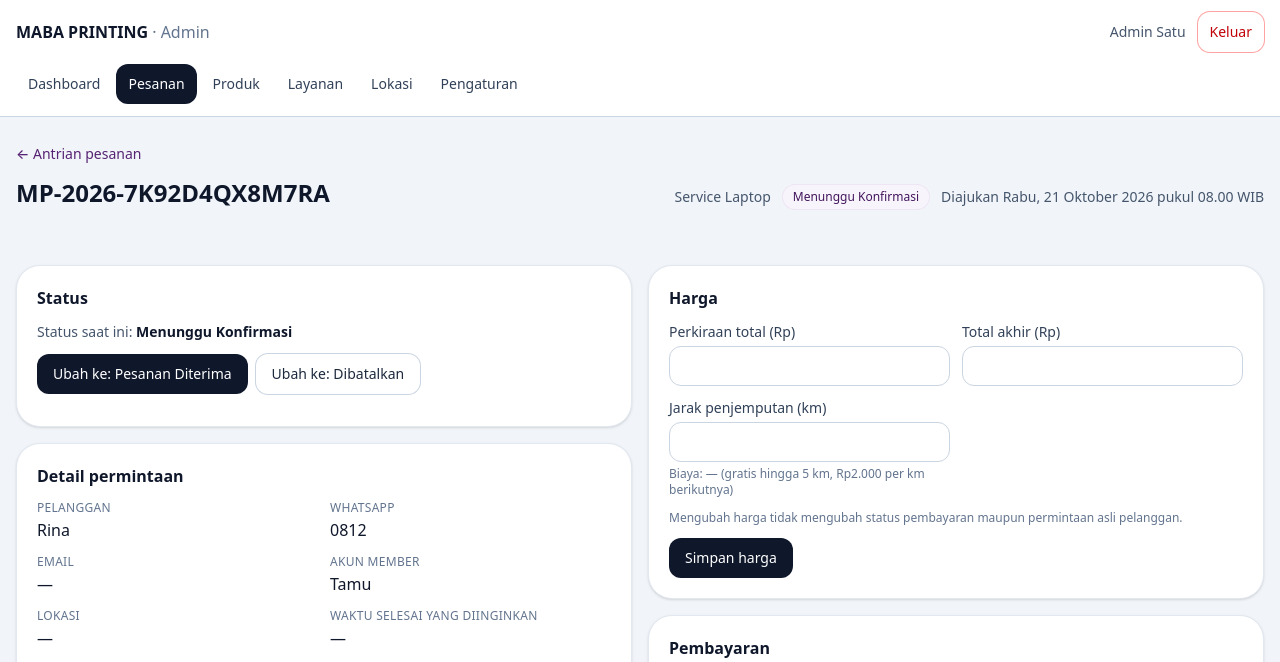
Admin order detail › rejects malformed prices in the browser
This screenshot has width=1280, height=662.
Type "75.000" into the field labelled "Total akhir (Rp)" at (1102, 366), box [962,346,1243,386]
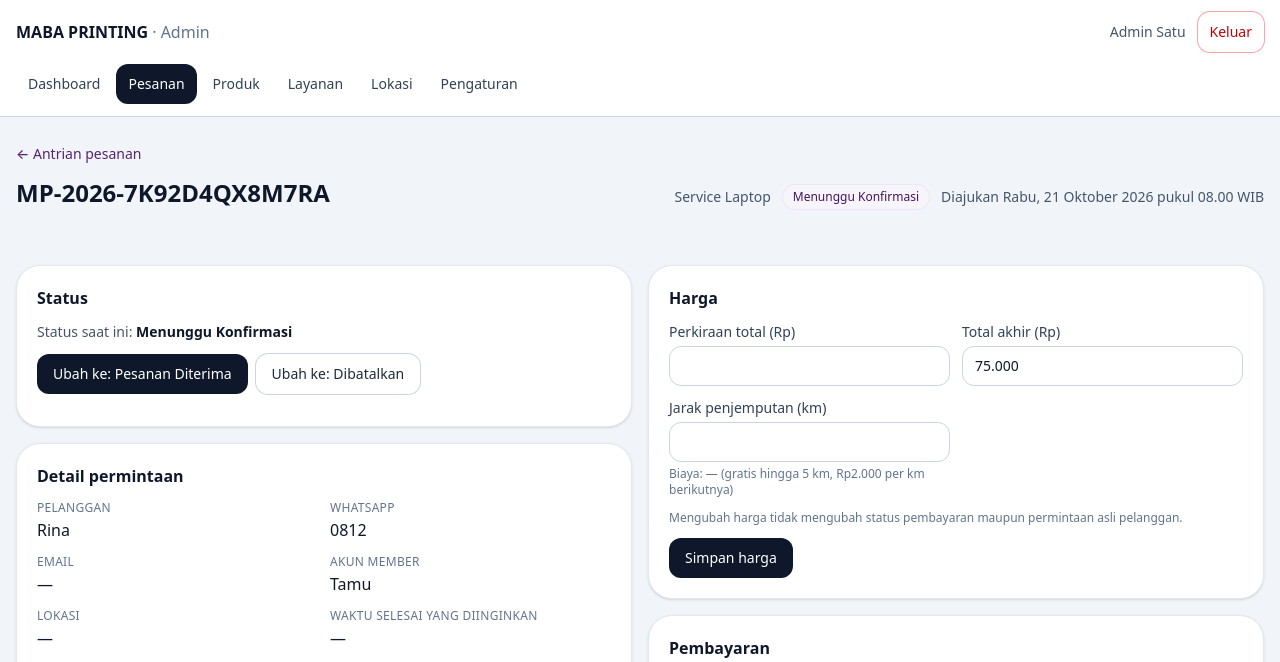
Click the button "Simpan harga" at (731, 558), box [669,538,793,578]
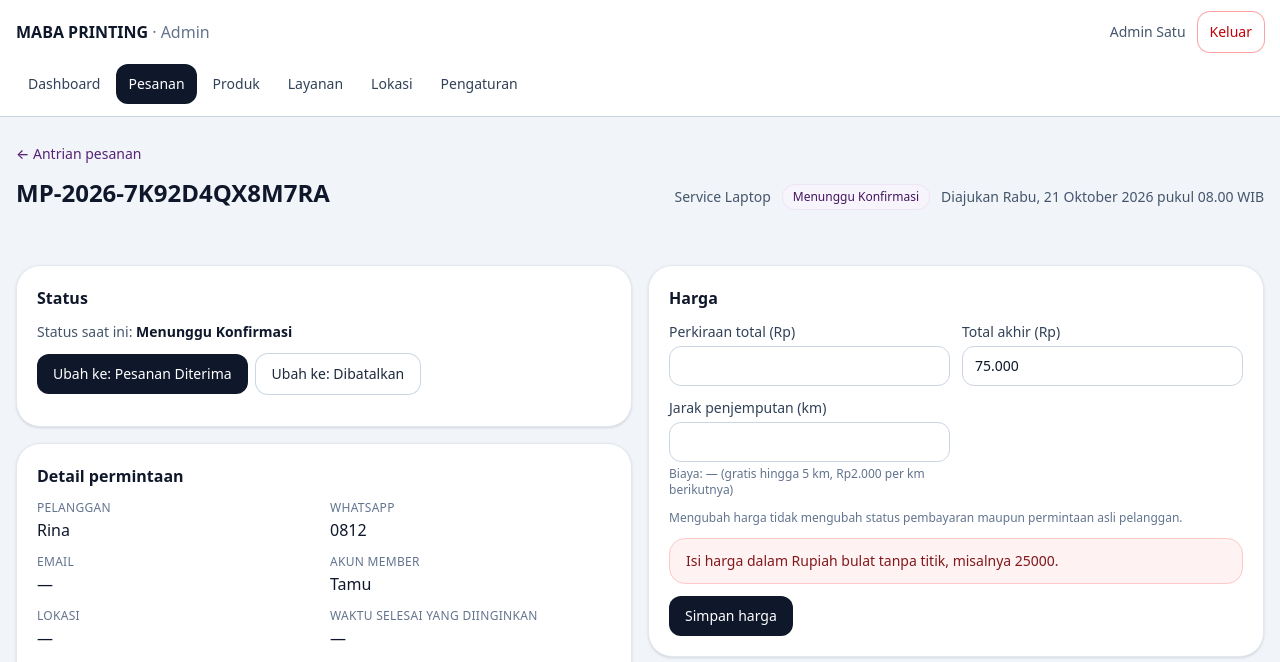
Result: the message "Isi harga dalam Rupiah bulat tanpa titik, misalnya 25000." is shown at [669,538,1243,584]
